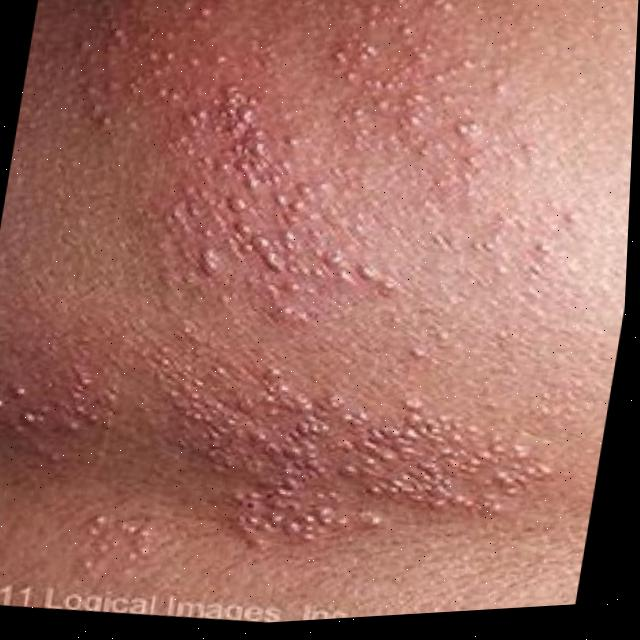Shingles: (0, 0, 630, 593)
